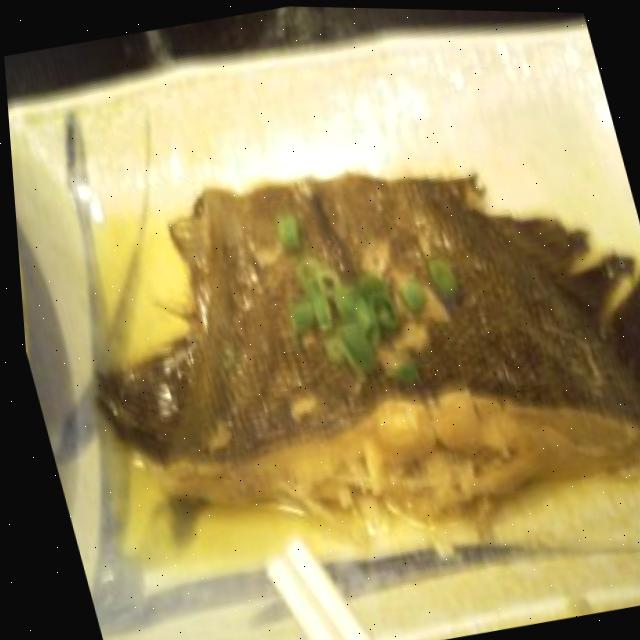熟制海鲜: (9, 84, 640, 640)
